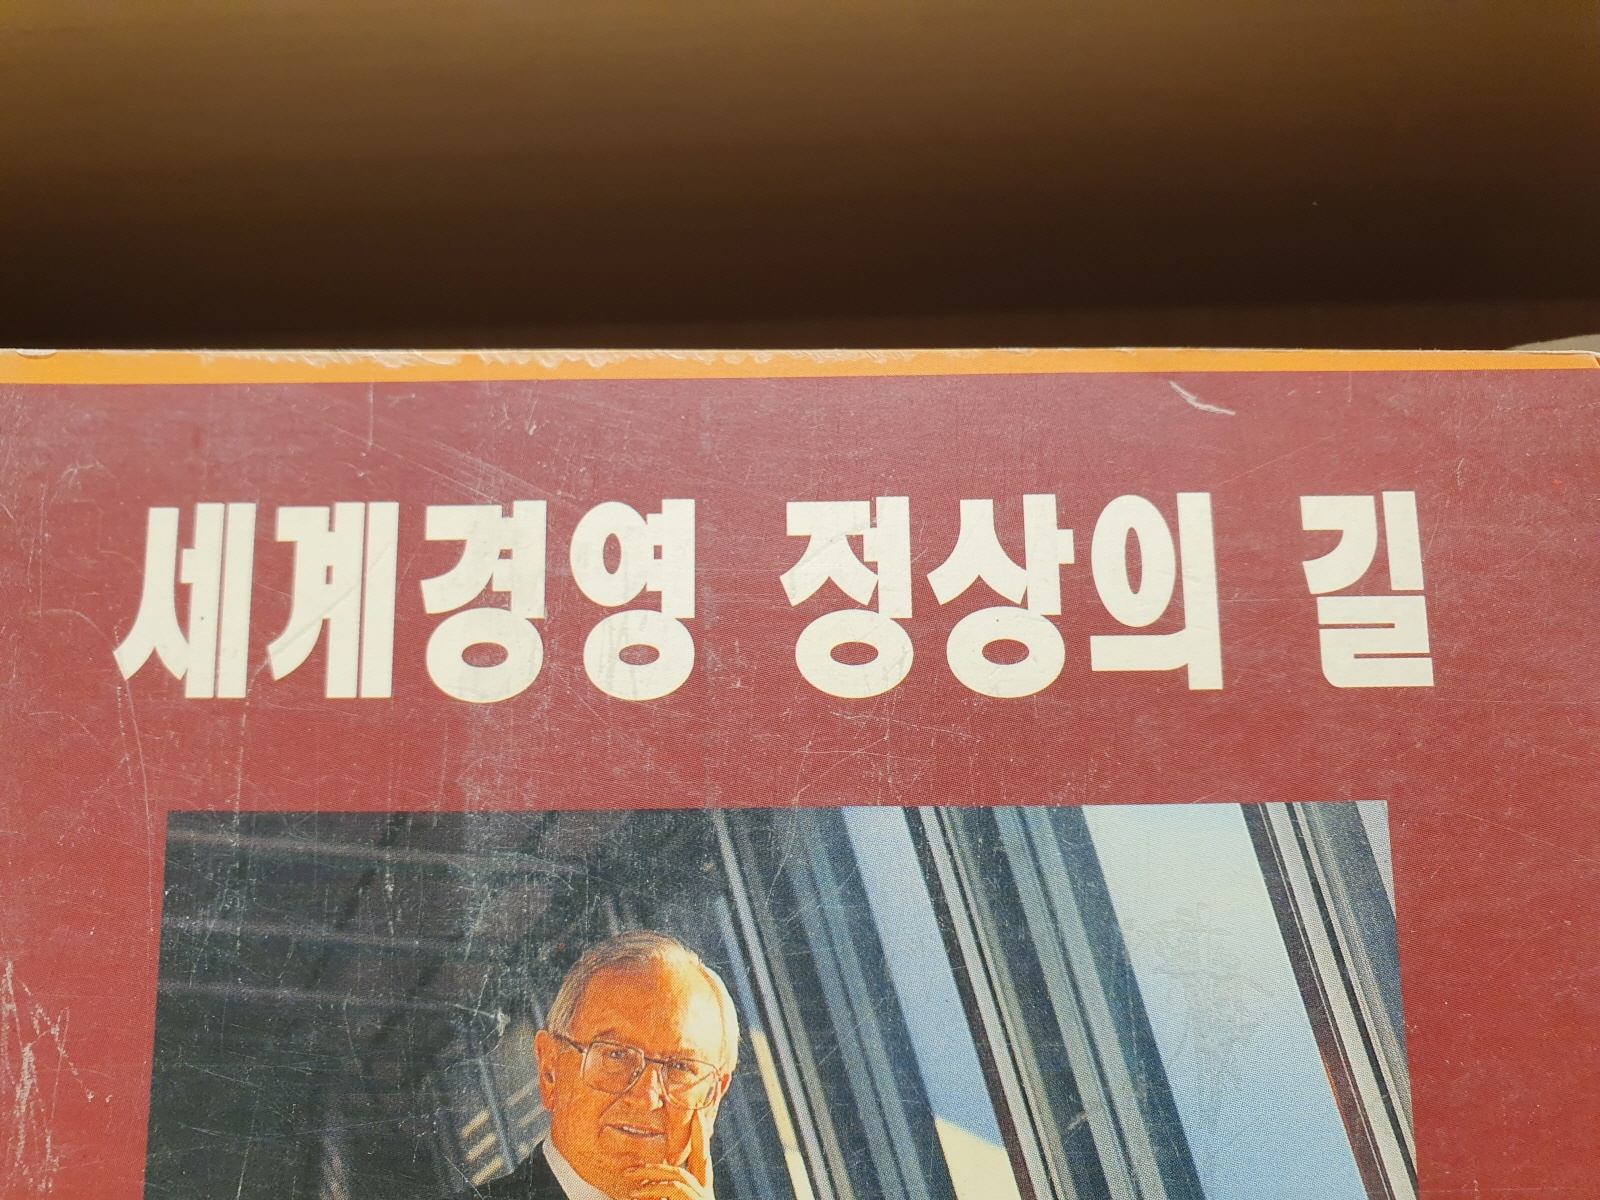text: (91, 435, 1477, 739)
